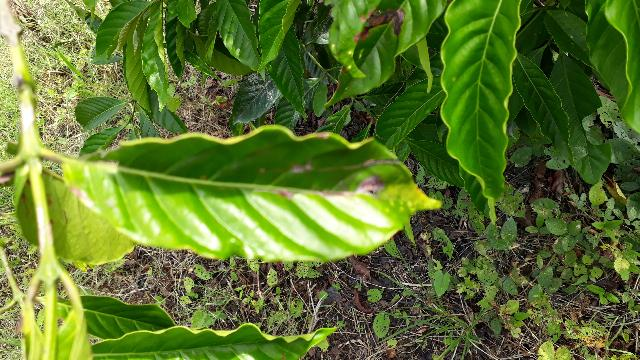rust_level_1: (58, 119, 454, 267)
